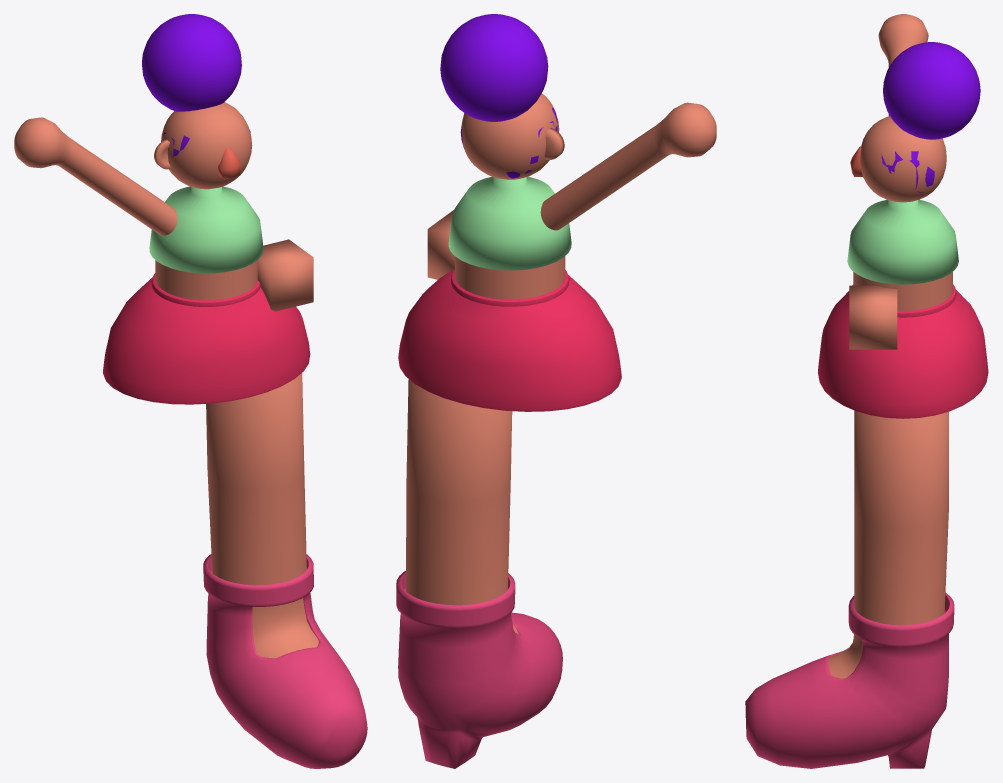
Rendered from EXERCISE2.glb.
3 renders of one model, left to right at view 1: azimuth 30°, elevation 25°; view 2: azimuth 150°, elevation 25°; view 3: azimuth 270°, elevation 25°, orthographic. The views are drawn at different scales.
Visible parts, largest first — view 1: Cylinder.005, Cylinder.006, Cylinder.004, Sphere, Cylinder.001, Sphere.001, Cube, Cube.002, Cylinder.002; view 2: Cylinder.004, Cylinder.006, Cylinder.005, Sphere, Cylinder.001, Sphere.001, Cube, Cylinder.002, Cube.002; view 3: Cylinder.006, Cylinder.005, Cylinder.004, Cylinder.001, Sphere, Cube, Cube.002, Cylinder.002, Sphere.001, Cube.003.
Part boxes in pixels (bbox=[...]): Cylinder.005: bbox=[206, 373, 318, 658]; Cylinder.006: bbox=[203, 554, 367, 768]; Cylinder.004: bbox=[103, 273, 310, 404]; Sphere: bbox=[142, 14, 241, 111]; Cylinder.001: bbox=[149, 186, 263, 273]; Sphere.001: bbox=[14, 117, 177, 235]; Cube: bbox=[161, 102, 252, 189]; Cube.002: bbox=[257, 239, 313, 311]; Cylinder.002: bbox=[155, 260, 257, 300]; Cylinder.004: bbox=[398, 269, 621, 411]; Cylinder.006: bbox=[396, 570, 562, 768]; Cylinder.005: bbox=[406, 379, 518, 634]; Sphere: bbox=[440, 14, 548, 121]; Cylinder.001: bbox=[448, 176, 571, 270]; Sphere.001: bbox=[540, 102, 716, 230]; Cube: bbox=[461, 93, 559, 179]; Cylinder.002: bbox=[455, 256, 565, 299]; Cube.002: bbox=[427, 210, 454, 279]; Cylinder.006: bbox=[745, 593, 954, 768]; Cylinder.005: bbox=[828, 410, 948, 678]; Cylinder.004: bbox=[818, 284, 988, 418]; Cylinder.001: bbox=[847, 199, 958, 284]; Sphere: bbox=[883, 42, 980, 139]; Cube: bbox=[860, 116, 946, 202]; Cube.002: bbox=[849, 285, 897, 349]; Cylinder.002: bbox=[853, 272, 952, 310]; Sphere.001: bbox=[878, 14, 928, 116]; Cube.003: bbox=[881, 151, 934, 195].
Bounding box in the file's own units: 6 × 13.7 × 4.37.
